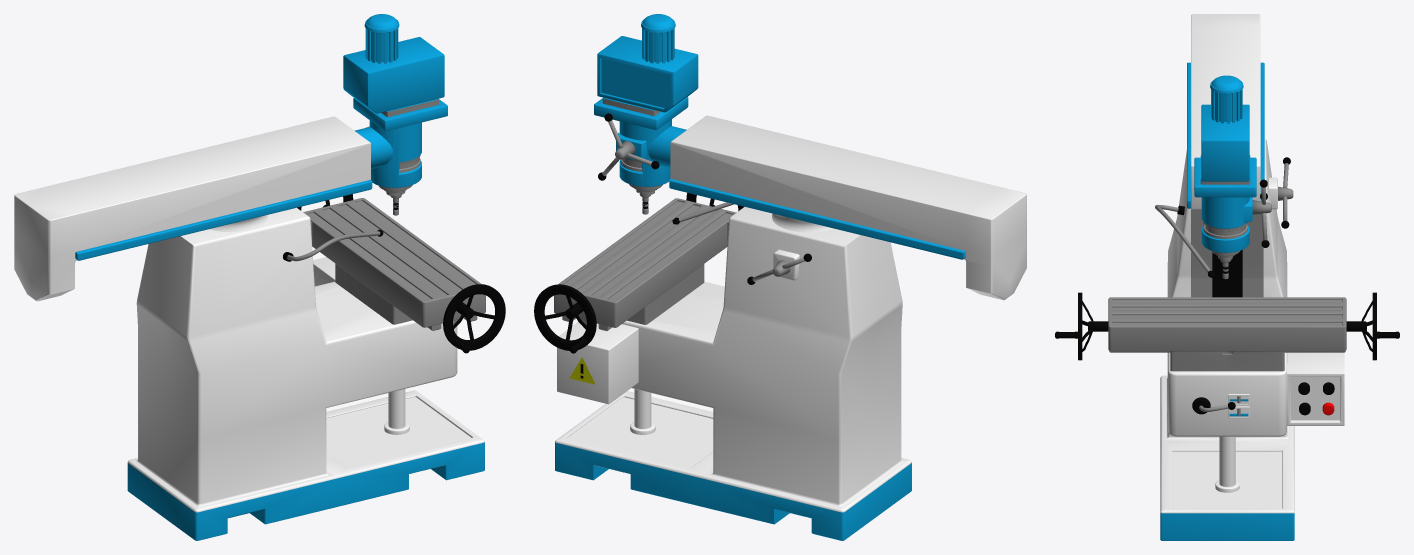
Rendered from Fressadoura 1.fbx.
The picture shows the model from 3 angles, left to right: view 1: azimuth 30°, elevation 25°; view 2: azimuth 150°, elevation 25°; view 3: azimuth 270°, elevation 25°; orthographic projection. The views are drawn at different scales.
Parts seen in each view (by area): view 1: Fressadoura, Motor, Mesa, ManivelaE; view 2: Fressadoura, Motor, Mesa, ManivelaD, AlavancaMotor, Rotatoria; view 3: Fressadoura, Motor, Mesa, ManivelaE, ManivelaD, AlavancaMotor, Alavanca.
Part boxes in pixels (x1,y1,x2,y2): Fressadoura: [127, 207, 484, 540]; Motor: [14, 14, 447, 301]; Mesa: [303, 198, 485, 330]; ManivelaE: [443, 284, 505, 353]; Fressadoura: [555, 202, 911, 540]; Motor: [594, 14, 1026, 300]; Mesa: [554, 198, 736, 330]; ManivelaD: [534, 284, 596, 353]; AlavancaMotor: [598, 113, 659, 180]; Rotatoria: [772, 213, 832, 232]; Fressadoura: [1155, 138, 1344, 540]; Motor: [1187, 14, 1264, 257]; Mesa: [1108, 297, 1346, 352]; ManivelaE: [1055, 292, 1108, 360]; ManivelaD: [1346, 292, 1399, 360]; AlavancaMotor: [1252, 179, 1271, 247]; Alavanca: [1278, 157, 1293, 228].
Bounding box in the file's own units: 394 × 398 × 290.
